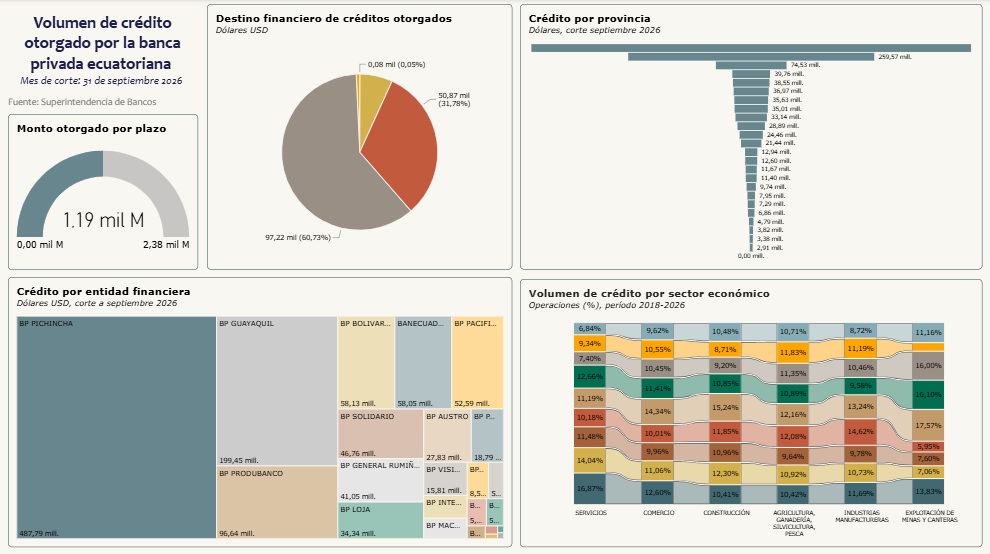

The dashboard page shown, as its layout file describes it:
{"tool":"powerbi","page":{"name":"Página 1","canvas":[1920,1080],"ordinal":0},"visuals":[{"type":"pieChart","title":"Destino financiero de créditos otorgados","fields":{"Series":["DESTINO FINANCIERO (2).DESTINO FINANCIERO_1"],"Y":["Sum(DESTINO FINANCIERO (2).1/9/2026)"]},"box":[401.8,10.6,591,514.5],"z":0},{"type":"treemap","title":"Crédito por entidad financiera","fields":{"Group":["ENTIDAD (2).ENTIDAD"],"Values":["Sum(ENTIDAD (2).1/9/2026_106)"]},"box":[17,537.9,975.8,523],"z":1000},{"type":"gauge","fields":{"Y":["Sum(PLAZO (2).1/9/2026_106)"]},"box":[17,223.2,367.8,301.9],"z":2000},{"type":"hundredPercentStackedColumnChart","title":"Volumen de crédito por sector económico","fields":{"Category":["SECTOR (2).MONTO OTORGADO"],"Y":["Sum(SECTOR (2).1/9/2026_105)","Sum(SECTOR (2).1/9/2025_93)","Sum(SECTOR (2).1/9/2024_81)","Sum(SECTOR (2).1/9/2023_69)","Sum(SECTOR (2).1/9/2022_57)","Sum(SECTOR (2).1/9/2021_45)","Sum(SECTOR (2).1/9/2020_33)","Sum(SECTOR (2).1/9/2019_21)","Sum(SECTOR (2).1/9/2018_9)"]},"box":[1007.7,542.1,895,518.7],"z":3000},{"type":"funnel","title":"Crédito por provincia","fields":{"Category":["PROVINCIA (2).PROVINCIA_1"],"Y":["Sum(PROVINCIA (2).1/9/2026_106)"]},"box":[1007.7,10.6,895,514.5],"z":4000},{"type":"textbox","box":[17,10.6,365.7,212.6],"z":5000}]}

Visuals, with their boxes in screenshot pixels (x1, y1, x2, y2), scaled from the page's 1920x1080 canvas onto the 990x554 screenshot:
"Destino financiero de créditos otorgados" pieChart: select_region(207, 5, 512, 269)
"Crédito por entidad financiera" treemap: select_region(9, 276, 512, 544)
gauge - Sum(PLAZO (2).1/9/2026_106): select_region(9, 114, 198, 269)
"Volumen de crédito por sector económico" hundredPercentStackedColumnChart: select_region(520, 278, 981, 544)
"Crédito por provincia" funnel: select_region(520, 5, 981, 269)
textbox: select_region(9, 5, 197, 114)
